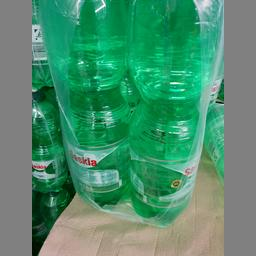water: (126, 0, 222, 226), (37, 0, 128, 209)
